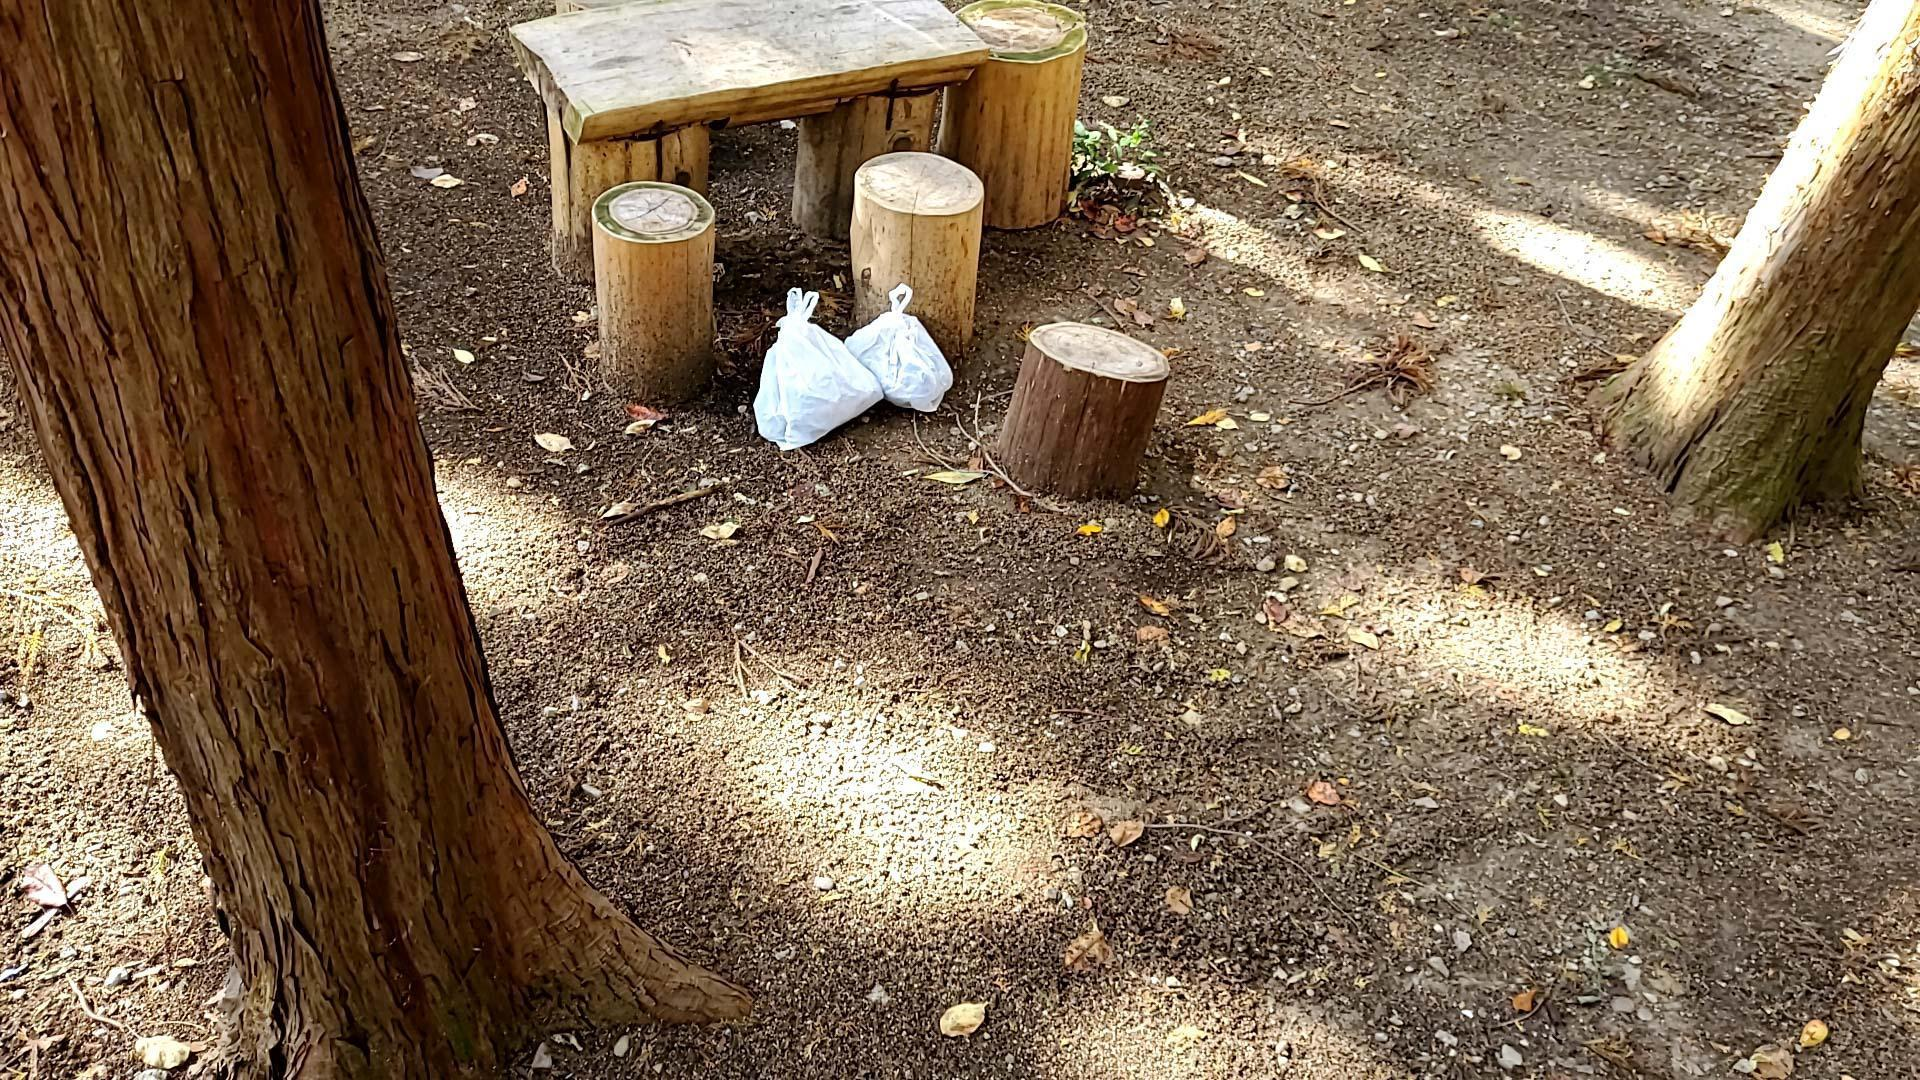white_bag: (746, 282, 887, 452), (843, 281, 959, 419)
